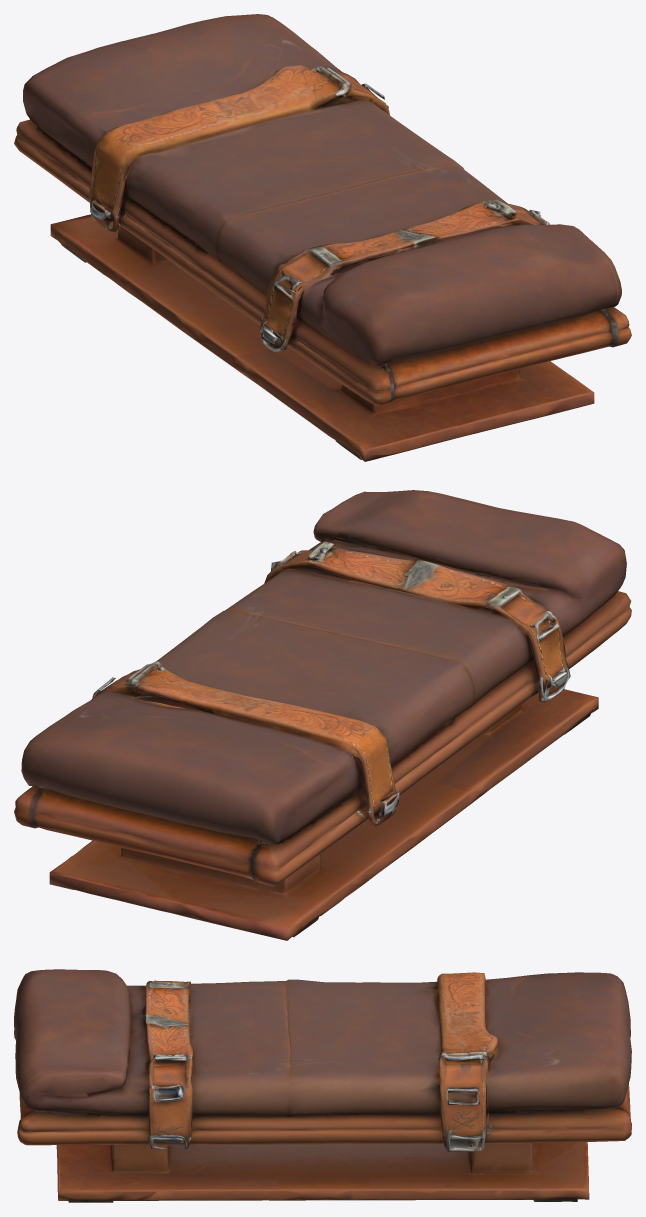
File: Camilla.glb
3 views of the same model, one above another, from view 1: azimuth 30°, elevation 25°; view 2: azimuth 150°, elevation 25°; view 3: azimuth 270°, elevation 25° (orthographic). The views are drawn at different scales.
Size of the model in its own units: 0.9357 by 0.5209 by 2.
Materials: 1 (1 with a texture image).
